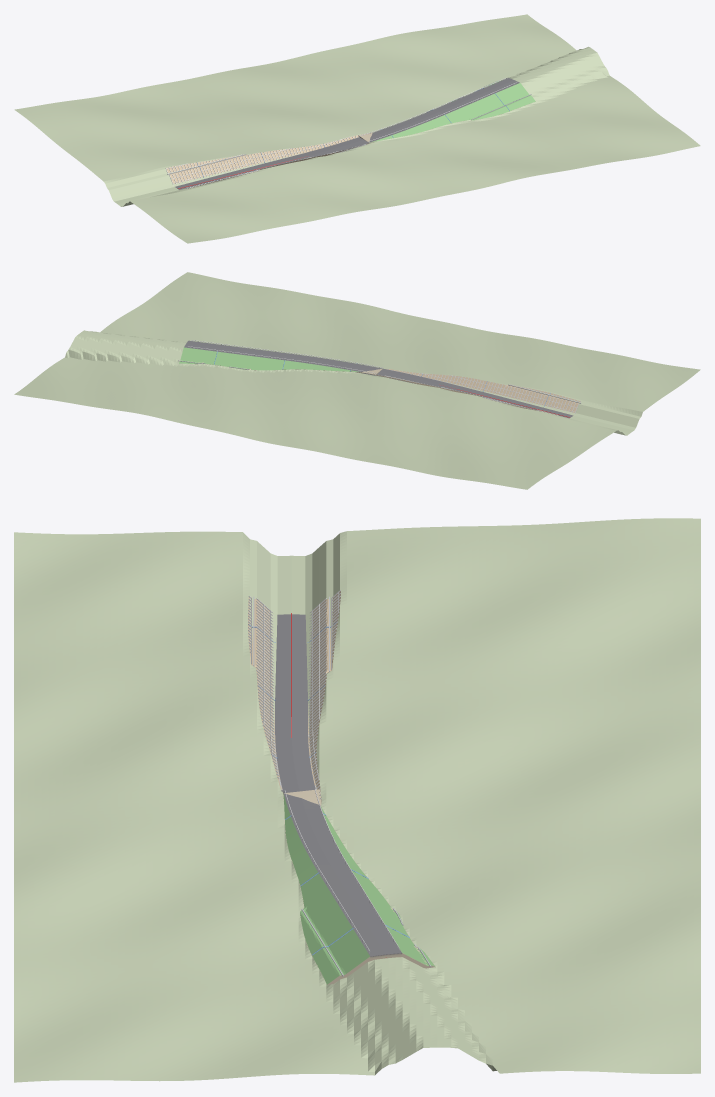
The picture shows the model from 3 angles, top to bottom: view 1: azimuth 30°, elevation 25°; view 2: azimuth 150°, elevation 25°; view 3: azimuth 270°, elevation 25°; orthographic projection. The views are drawn at different scales.
Visible parts, largest first — view 1: 地形|現況地形 (参考・土工後の地表面), 舗装|舗装 表層 t=5cm, 法面工|植生工 (種子散布, 右側 盛土法面), 法面|切土法面 1:1.0 (小段 1.5m@5m) [左側 No.0-132], 法面工|吹付法枠工 300×300 @2.0m (左側 切土法面); view 2: 地形|現況地形 (参考・土工後の地表面), 舗装|舗装 表層 t=5cm, 法面工|植生工 (種子散布, 左側 盛土法面), 法面|切土法面 1:1.0 (小段 1.5m@5m) [右側 No.0-122], 法面工|吹付法枠工 300×300 @2.0m (右側 切土法面); view 3: 地形|現況地形 (参考・土工後の地表面), 舗装|舗装 表層 t=5cm, 法面工|植生工 (種子散布, 右側 盛土法面), 法面工|吹付法枠工 300×300 @2.0m (左側 切土法面), 法面工|吹付法枠工 300×300 @2.0m (右側 切土法面), 法面工|植生工 (種子散布, 左側 盛土法面), 法面|切土法面 1:1.0 (小段 1.5m@5m) [左側 No.0-132], 法面|切土法面 1:1.0 (小段 1.5m@5m) [右側 No.0-122], 土工|盛土本体 (路体・路床).
Boxes of the visible parts, x1,y1,x2,y2 form: 地形|現況地形 (参考・土工後の地表面): (14, 14, 700, 243); 舗装|舗装 表層 t=5cm: (175, 78, 519, 189); 法面工|植生工 (種子散布, 右側 盛土法面): (370, 83, 535, 142); 法面|切土法面 1:1.0 (小段 1.5m@5m) [左側 No.0-132]: (166, 133, 365, 184); 法面工|吹付法枠工 300×300 @2.0m (左側 切土法面): (165, 133, 367, 185); 地形|現況地形 (参考・土工後の地表面): (14, 272, 700, 489); 舗装|舗装 表層 t=5cm: (184, 340, 573, 418); 法面工|植生工 (種子散布, 左側 盛土法面): (179, 347, 358, 371); 法面|切土法面 1:1.0 (小段 1.5m@5m) [右側 No.0-122]: (386, 369, 580, 412); 法面工|吹付法枠工 300×300 @2.0m (右側 切土法面): (399, 370, 580, 413); 地形|現況地形 (参考・土工後の地表面): (14, 518, 700, 1082); 舗装|舗装 表層 t=5cm: (275, 614, 401, 956); 法面工|植生工 (種子散布, 右側 盛土法面): (283, 793, 369, 984); 法面工|吹付法枠工 300×300 @2.0m (左側 切土法面): (308, 590, 340, 799); 法面工|吹付法枠工 300×300 @2.0m (右側 切土法面): (248, 596, 279, 778); 法面工|植生工 (種子散布, 左側 盛土法面): (321, 806, 435, 966); 法面|切土法面 1:1.0 (小段 1.5m@5m) [左側 No.0-132]: (308, 591, 340, 801); 法面|切土法面 1:1.0 (小段 1.5m@5m) [右側 No.0-122]: (248, 597, 282, 789); 土工|盛土本体 (路体・路床): (283, 789, 435, 984).
Size of the model in its own units: 338 by 21.85 by 198.
